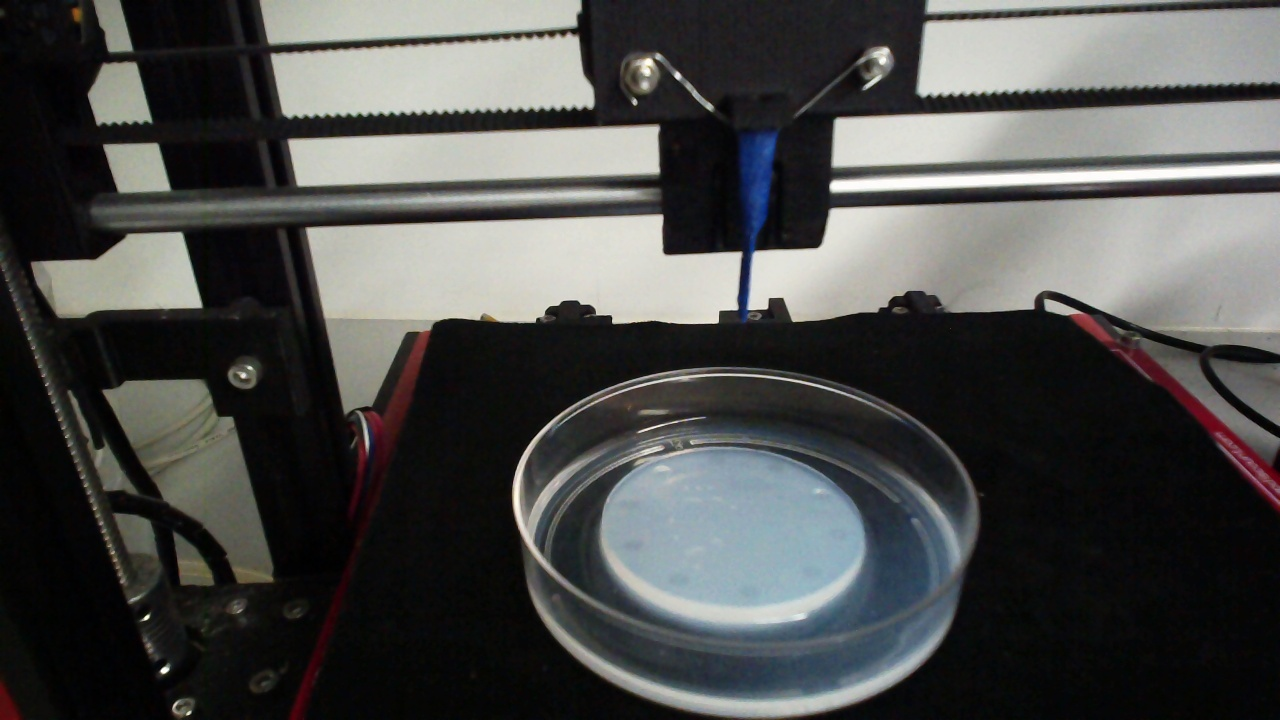groove: (665, 570, 690, 588), (737, 583, 759, 599), (799, 564, 821, 580), (809, 487, 831, 503), (618, 497, 640, 511), (704, 453, 726, 467), (651, 463, 671, 478), (621, 539, 643, 552), (828, 526, 846, 541), (765, 462, 784, 474)
needle: (739, 132, 777, 323)
